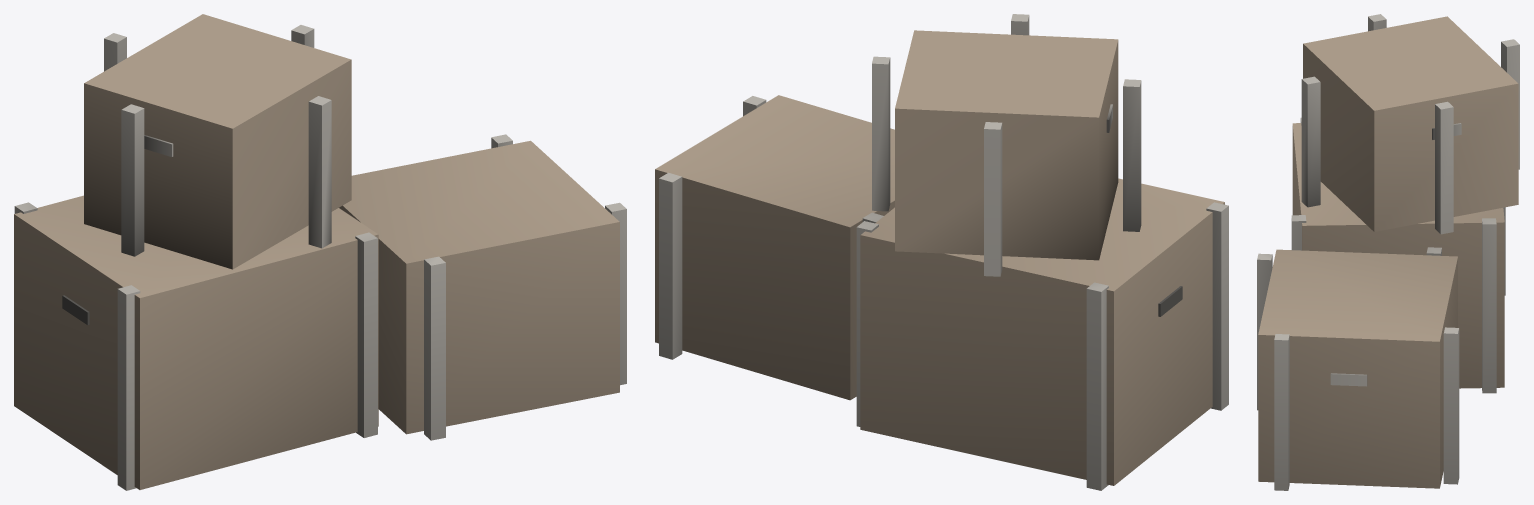
The model's file is crates.lod1.glb.
3 views of the same model, side by side, from view 1: azimuth 30°, elevation 25°; view 2: azimuth 150°, elevation 25°; view 3: azimuth 270°, elevation 25° (orthographic). The views are drawn at different scales.
Visible parts, largest first — view 1: props_crates.lod1; view 2: props_crates.lod1; view 3: props_crates.lod1.
Part boxes in pixels (x1,y1,x2,y2): props_crates.lod1: [14, 14, 626, 490]; props_crates.lod1: [655, 14, 1228, 490]; props_crates.lod1: [1257, 14, 1519, 490].
Size of the model in its own units: 2.39 by 1.58 by 1.3.
